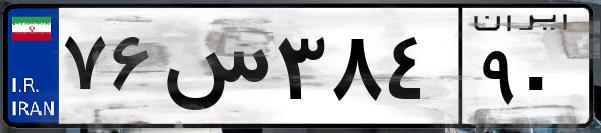0: (525, 38, 570, 115)
3: (270, 28, 330, 110)
4: (385, 28, 445, 110)
6: (110, 28, 158, 98)
7: (57, 26, 110, 100)
8: (330, 28, 385, 110)
9: (475, 38, 525, 113)
س: (158, 20, 270, 120)
